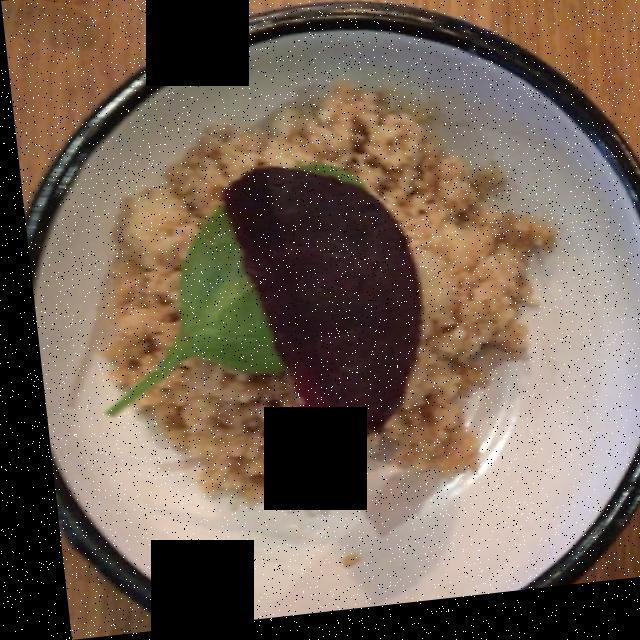beetroot: (198, 186, 415, 463)
spinach: (95, 218, 262, 416)
taboule-prepared-with-couscous: (104, 113, 531, 498)
